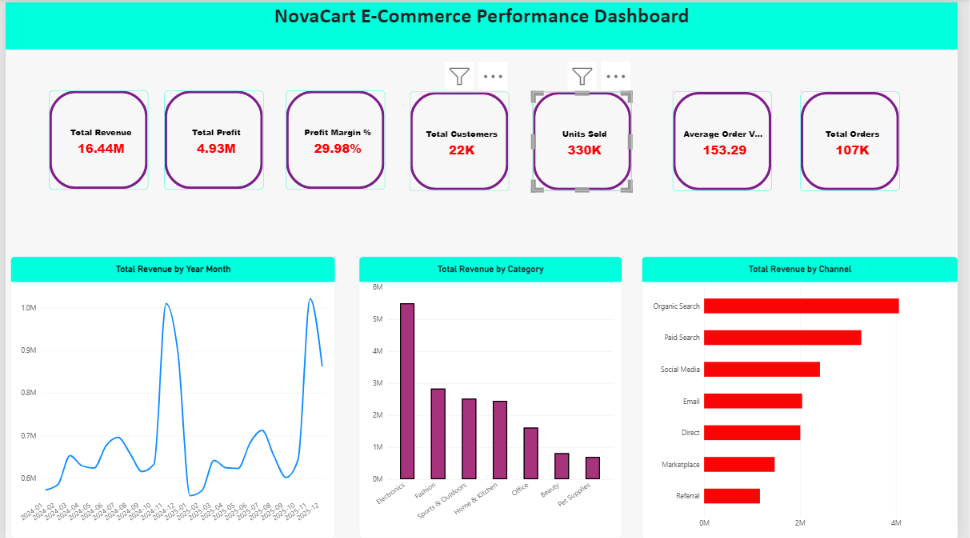

Layout of this report page (visuals, bound fields, positions):
{"tool":"powerbi","page":{"name":"Executive Overview","canvas":[1920,1080],"ordinal":0},"visuals":[{"type":"cardVisual","fields":{"Data":["Orders.Total Revenue"]},"box":[88,178,200,200],"z":0},{"type":"cardVisual","fields":{"Data":["Orders.Total Profit"]},"box":[320,178,200,200],"z":1000},{"type":"cardVisual","fields":{"Data":["Orders.Profit Margin %"]},"box":[564,178,200,200],"z":2000},{"type":"cardVisual","fields":{"Data":["Orders.Total Orders"]},"box":[1602.5,180,200,200],"z":3000},{"type":"cardVisual","fields":{"Data":["Orders.Total Customers"]},"box":[816,180,200,200],"z":4000},{"type":"cardVisual","fields":{"Data":["Orders.Units Sold"]},"box":[1062.5,180,200,200],"z":5000},{"type":"cardVisual","fields":{"Data":["Orders.Average Order Value"]},"box":[1345,180,200,200],"z":6000},{"type":"lineChart","fields":{"Category":["Date.Year Month"],"Y":["Orders.Total Revenue"]},"box":[10,512.5,655,567.5],"z":7000},{"type":"columnChart","fields":{"Category":["Products.Category"],"Y":["Orders.Total Revenue"]},"box":[712.5,512.5,530,567.5],"z":8000},{"type":"clusteredBarChart","fields":{"Category":["Orders.Channel"],"Y":["Orders.Total Revenue"]},"box":[1282.5,512.5,637.5,570],"z":9000},{"type":"textbox","box":[0,0,1920,95],"z":9001}]}

Visuals, with their boxes in screenshot pixels (x1, y1, x2, y2), scaled from the page's 1920x1080 canvas onto the 970x538 screenshot:
cardVisual - Orders.Total Revenue: pyautogui.locateOnScreen(44, 89, 146, 188)
cardVisual - Orders.Total Profit: pyautogui.locateOnScreen(162, 89, 263, 188)
cardVisual - Orders.Profit Margin %: pyautogui.locateOnScreen(285, 89, 386, 188)
cardVisual - Orders.Total Orders: pyautogui.locateOnScreen(810, 90, 911, 189)
cardVisual - Orders.Total Customers: pyautogui.locateOnScreen(412, 90, 513, 189)
cardVisual - Orders.Units Sold: pyautogui.locateOnScreen(537, 90, 638, 189)
cardVisual - Orders.Average Order Value: pyautogui.locateOnScreen(680, 90, 781, 189)
lineChart - Date.Year Month x Orders.Total Revenue: pyautogui.locateOnScreen(5, 255, 336, 537)
columnChart - Products.Category x Orders.Total Revenue: pyautogui.locateOnScreen(360, 255, 628, 537)
clusteredBarChart - Orders.Channel x Orders.Total Revenue: pyautogui.locateOnScreen(648, 255, 969, 537)
textbox: pyautogui.locateOnScreen(0, 0, 969, 47)
